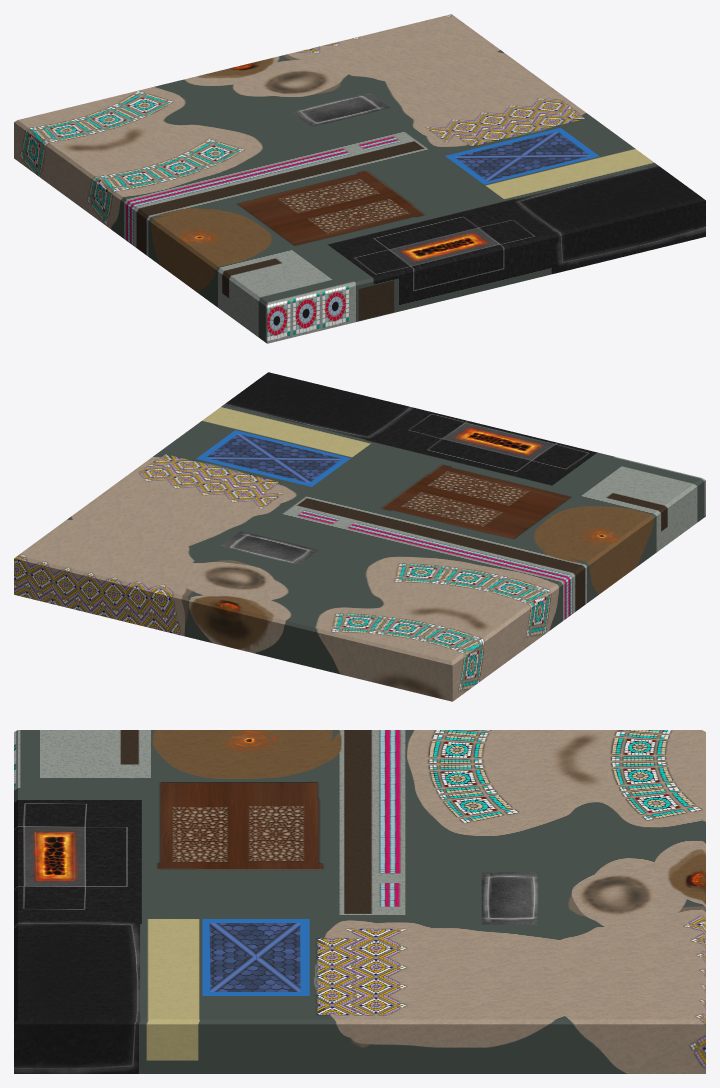
The model's file is street_restaurant_tandir_base.FBX.
3 views of the same model, one above another, from view 1: azimuth 30°, elevation 25°; view 2: azimuth 150°, elevation 25°; view 3: azimuth 270°, elevation 25° (orthographic). The views are drawn at different scales.
Visible parts, largest first — view 1: street_restaurant_tandir_base; view 2: street_restaurant_tandir_base; view 3: street_restaurant_tandir_base.
Boxes of the visible parts, left/top/right/bottom form: street_restaurant_tandir_base: left=14, top=14, right=705, bottom=343; street_restaurant_tandir_base: left=14, top=372, right=705, bottom=701; street_restaurant_tandir_base: left=14, top=730, right=705, bottom=1073.
Bounding box in the file's own units: 177 × 15 × 177.
